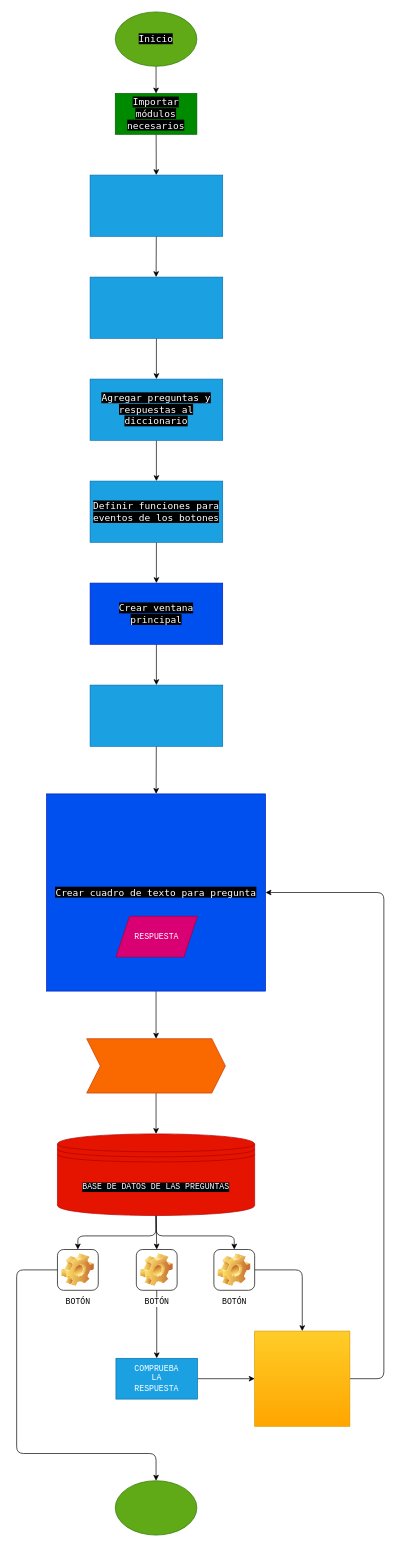
The diagram is 401 pixels wide and 1547 high, and some of its shapes have lost their labels. The centre of each missing label's shape, as x and y in pixels:
CAMBIA DE PREGUNTA BORRA LA RESPUESTA: the point at 302,1378
Cargar imagen de fondo: the point at 156,715
Crear etiqueta para mostrar respuesta: the point at 155,1065
Definir diccionario "preguntas_respuestas": the point at 156,205
Definir función "buscar_respuesta": the point at 156,307
FIN: the point at 156,1507
